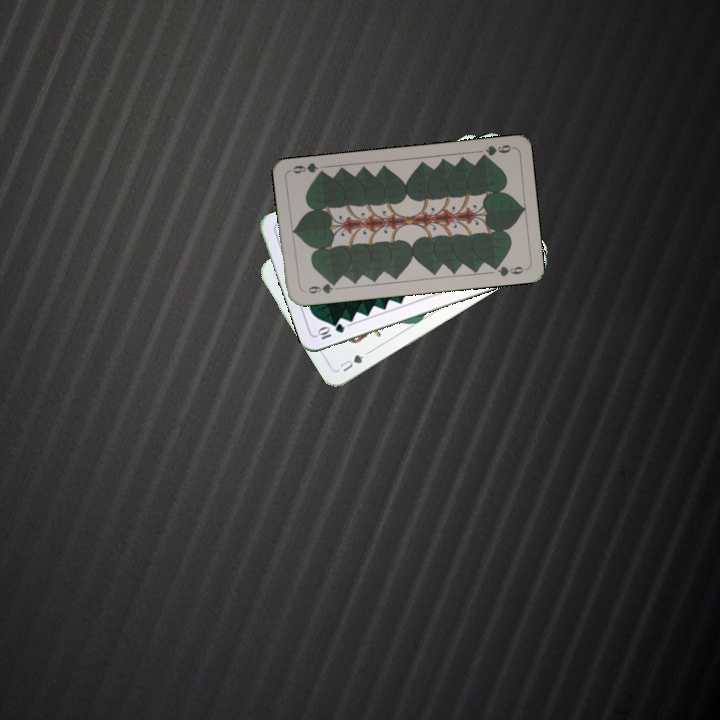G10: (313, 319, 347, 342)
G9: (476, 140, 515, 162), (300, 278, 340, 296)
GU: (336, 348, 372, 375)
